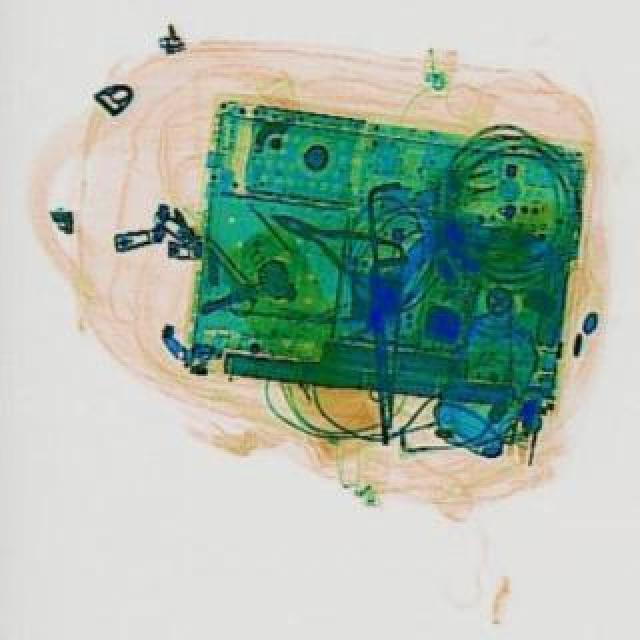wrench: (256, 196, 392, 296)
